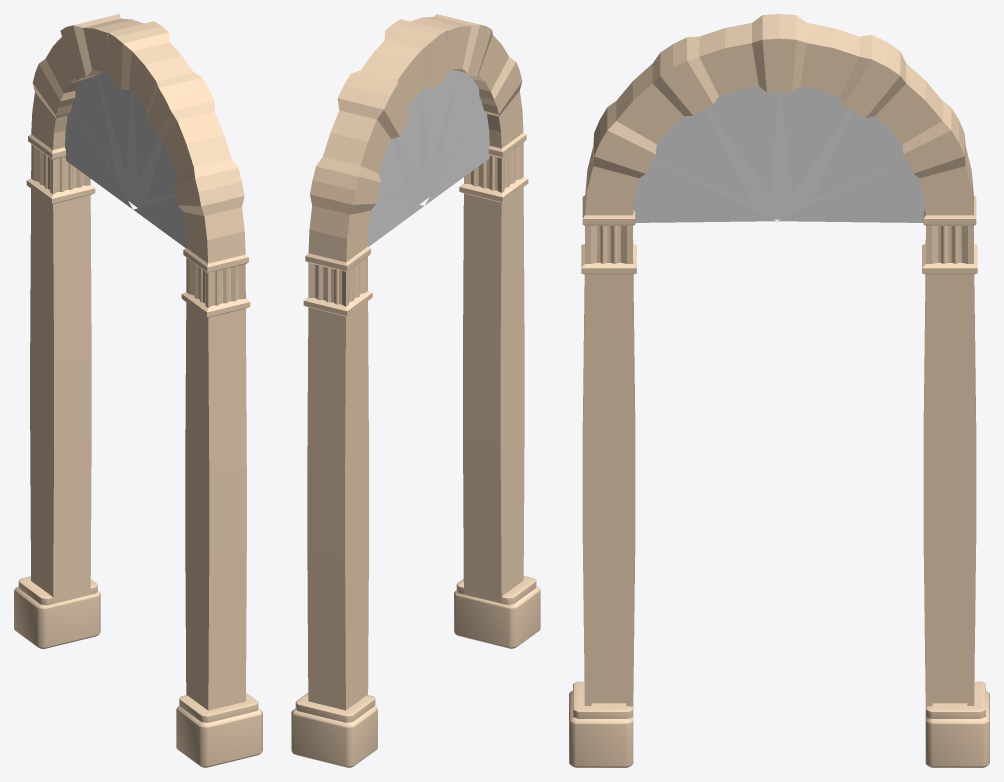
File: door.fbx
The picture shows the model from 3 angles, left to right: view 1: azimuth 30°, elevation 25°; view 2: azimuth 150°, elevation 25°; view 3: azimuth 270°, elevation 25°; orthographic projection. The views are drawn at different scales.
Parts seen in each view (by area): view 1: arc, Sphere, Cube.001; view 2: arc, Sphere, Cube.001; view 3: arc, Sphere, Cube.001.
Part boxes in pixels (<box>): arc: <box>14,14,262,767</box>; Sphere: <box>65,72,186,247</box>; Cube.001: <box>74,74,175,207</box>; arc: <box>291,14,540,767</box>; Sphere: <box>368,69,489,246</box>; Cube.001: <box>378,71,481,204</box>; arc: <box>569,14,989,767</box>; Sphere: <box>633,86,925,222</box>; Cube.001: <box>652,92,905,219</box>.
Bounding box in the file's own units: 21.97 × 220 × 115.
